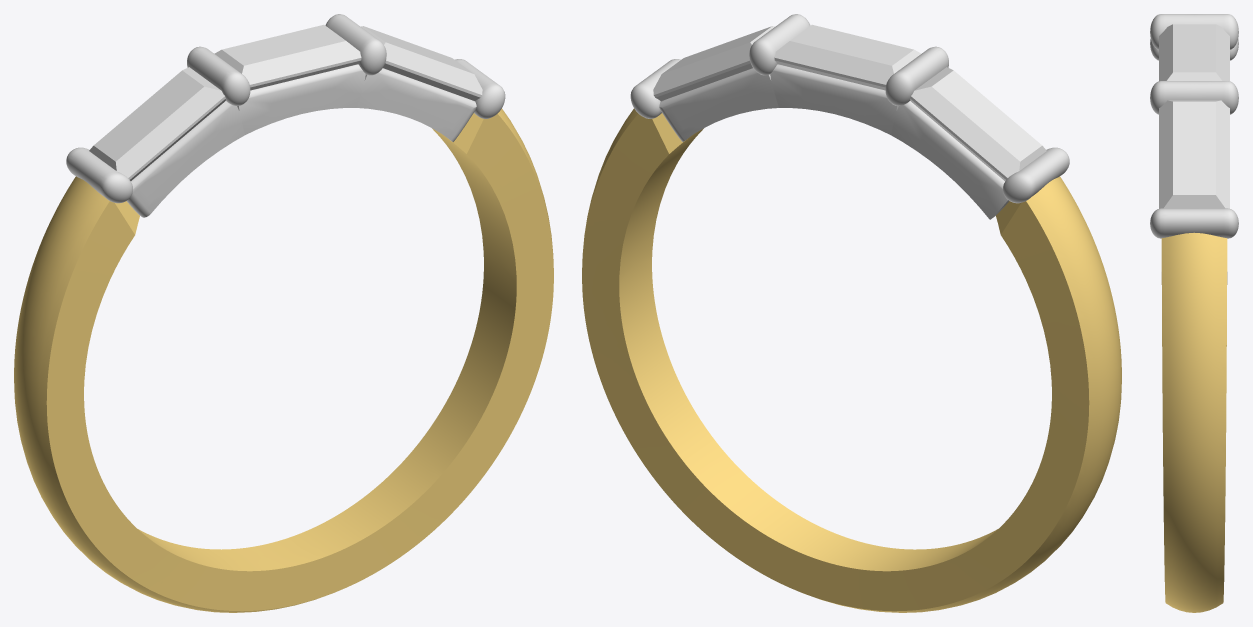
File: Abby3stone_blender.glb
3 renders of one model, left to right at view 1: azimuth 30°, elevation 25°; view 2: azimuth 150°, elevation 25°; view 3: azimuth 270°, elevation 25°, orthographic. The views are drawn at different scales.
Visible parts, largest first — view 1: v2 Abby 3 stone YG for 3d model, v2 Abby 3 stone PT for 3d model, v2 Abby 3 stone dia baguette for 3d model, v2 Abby 3 stone dia baguette for 3d model.002, v2 Abby 3 stone dia baguette for 3d model.001; view 2: v2 Abby 3 stone YG for 3d model, v2 Abby 3 stone PT for 3d model, v2 Abby 3 stone dia baguette for 3d model, v2 Abby 3 stone dia baguette for 3d model.002, v2 Abby 3 stone dia baguette for 3d model.001; view 3: v2 Abby 3 stone YG for 3d model, v2 Abby 3 stone dia baguette for 3d model.001, v2 Abby 3 stone PT for 3d model, v2 Abby 3 stone dia baguette for 3d model.002.
Boxes of the visible parts, bbox=[...] form: v2 Abby 3 stone YG for 3d model: bbox=[14, 108, 553, 612]; v2 Abby 3 stone PT for 3d model: bbox=[66, 14, 505, 217]; v2 Abby 3 stone dia baguette for 3d model: bbox=[89, 67, 225, 180]; v2 Abby 3 stone dia baguette for 3d model.002: bbox=[214, 24, 361, 90]; v2 Abby 3 stone dia baguette for 3d model.001: bbox=[361, 26, 482, 100]; v2 Abby 3 stone YG for 3d model: bbox=[582, 108, 1121, 612]; v2 Abby 3 stone PT for 3d model: bbox=[630, 14, 1069, 219]; v2 Abby 3 stone dia baguette for 3d model: bbox=[910, 67, 1046, 180]; v2 Abby 3 stone dia baguette for 3d model.002: bbox=[774, 24, 921, 90]; v2 Abby 3 stone dia baguette for 3d model.001: bbox=[653, 26, 774, 100]; v2 Abby 3 stone YG for 3d model: bbox=[1161, 232, 1227, 612]; v2 Abby 3 stone dia baguette for 3d model.001: bbox=[1159, 100, 1229, 208]; v2 Abby 3 stone PT for 3d model: bbox=[1150, 14, 1238, 238]; v2 Abby 3 stone dia baguette for 3d model.002: bbox=[1159, 24, 1229, 81].
Bounding box in the file's own units: 20.52 × 20.87 × 3.12.
